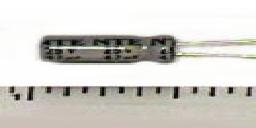Electrolytic Capacitor: (37, 33, 256, 69)
